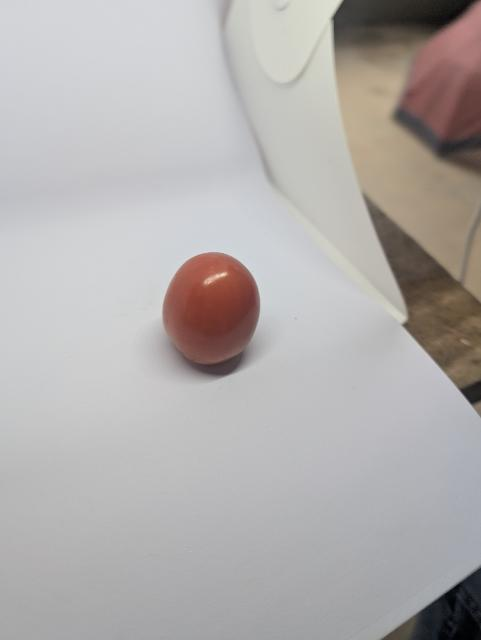red: (159, 247, 271, 377)
